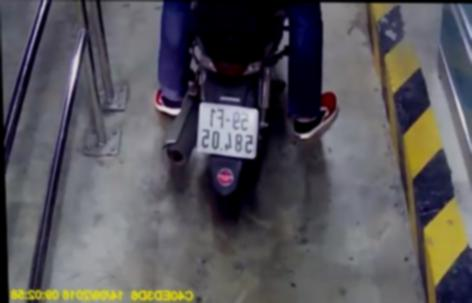License_Plate: (192, 100, 267, 162)
